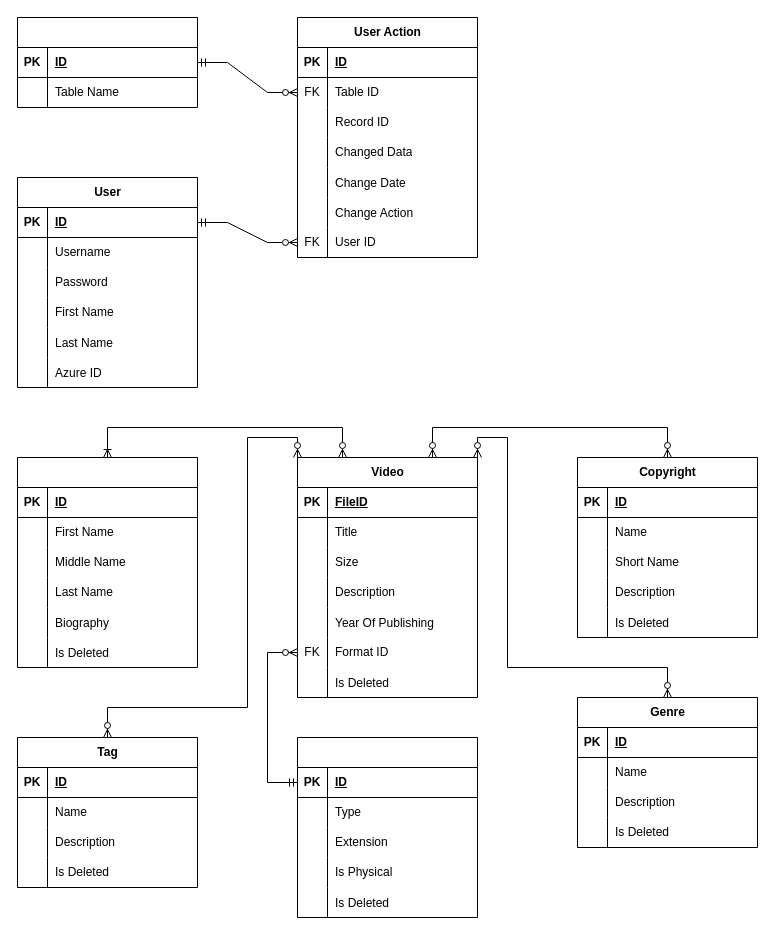
Image size: 775x935. Some labels were removed from this diagram. Each missing label, with the box of its shape:
Autor: (16, 456, 198, 668)
DB Schema: (16, 16, 198, 108)
Format: (296, 736, 478, 918)
